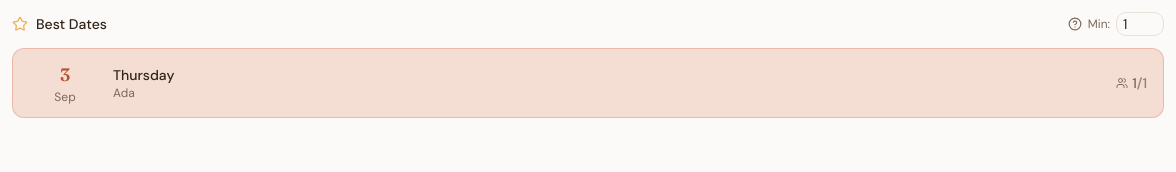
BestDates › clamps a minimum of zero back up to one day
Replace the text in the number field titled "Min days" with "0": (1140,24) [1116,12,1164,36]
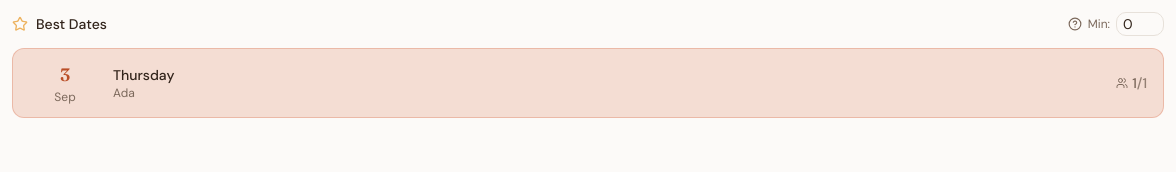
Leave the number field titled "Min days", box [1116,12,1164,36]
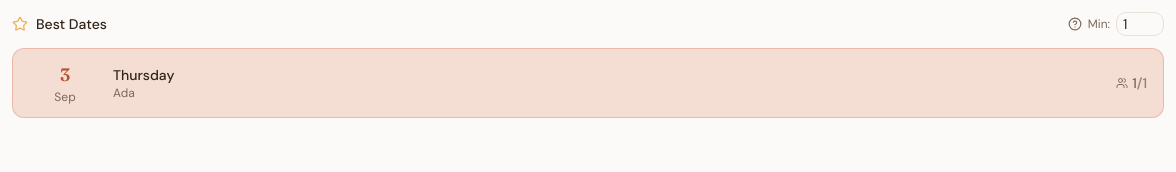
Check: the number field titled "Min days" holds "1", box [1116,12,1164,36]
